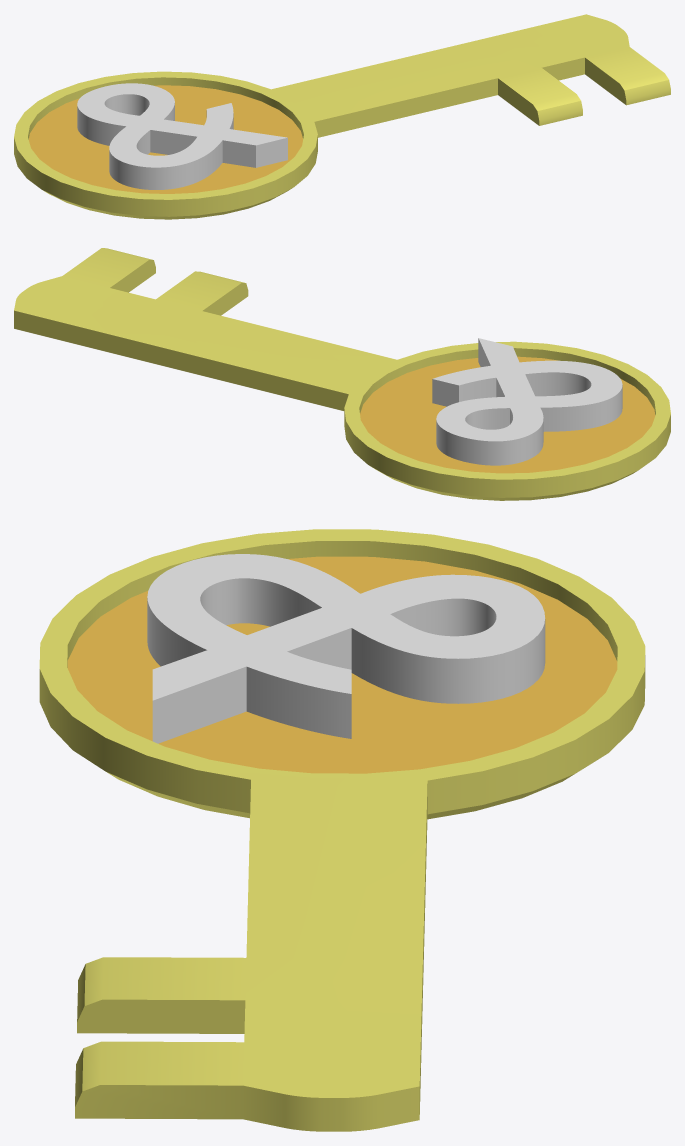
File: gamerkey.fbx
3 views of the same model, one above another, from view 1: azimuth 30°, elevation 25°; view 2: azimuth 150°, elevation 25°; view 3: azimuth 270°, elevation 25° (orthographic). The views are drawn at different scales.
Visible parts, largest first — view 1: Cylinder; view 2: Cylinder; view 3: Cylinder.
Boxes of the visible parts, x1,y1,x2,y2 form: Cylinder: [14, 14, 670, 219]; Cylinder: [14, 248, 670, 500]; Cylinder: [39, 529, 645, 1131].
Bounding box in the file's own units: 443 × 27.47 × 199.
